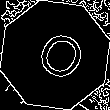O_SW: (24, 22, 86, 88)
